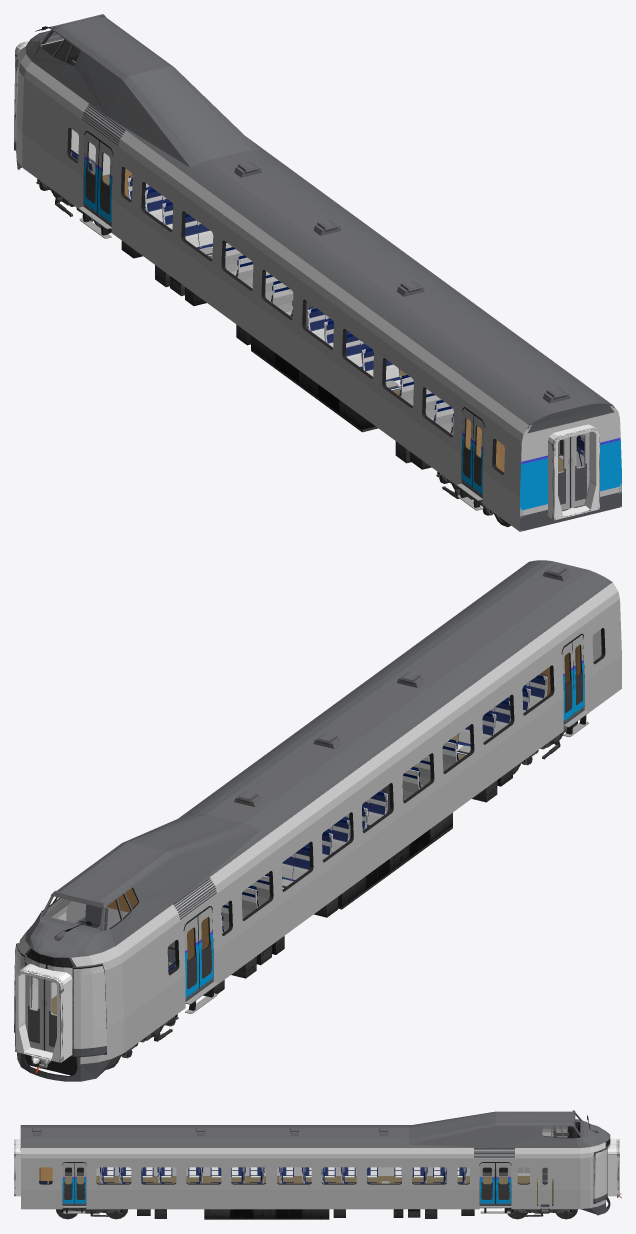
Rendered from nsicmfront_gangway_back.obj.
The picture shows the model from 3 angles, top to bottom: view 1: azimuth 30°, elevation 25°; view 2: azimuth 150°, elevation 25°; view 3: azimuth 270°, elevation 25°; orthographic projection. The views are drawn at different scales.
Parts seen in each view (by area): view 1: side, jibung, chair_second, backout, habu, mak, jibungparts, backdoor, door_RB, door_RF, sadari, DT71 (+1 smaller); view 2: side, jibung, chair_second, frontparts, habu, mak, side_front, jibungparts, backdoor, door_RF, door_RB, sadari (+4 smaller); view 3: side, jibung, chair_second, habu, badak, mak, DT71, frontparts, side_front, door_LB, door_LF, inside (+5 smaller).
Part boxes in pixels (<box>): side: <box>22,61,621,531</box>; jibung: <box>25,16,612,425</box>; chair_second: <box>127,175,453,434</box>; backout: <box>523,403,618,530</box>; habu: <box>111,228,431,469</box>; mak: <box>15,40,599,520</box>; jibungparts: <box>82,103,570,403</box>; backdoor: <box>558,432,589,509</box>; door_RB: <box>83,132,473,487</box>; door_RF: <box>97,141,483,494</box>; sadari: <box>79,131,577,510</box>; DT71: <box>36,179,510,527</box>; side: <box>47,582,621,1052</box>; jibung: <box>25,560,612,957</box>; chair_second: <box>221,673,547,933</box>; frontparts: <box>14,920,123,1081</box>; habu: <box>24,769,512,1075</box>; mak: <box>15,963,72,1062</box>; side_front: <box>19,927,124,1064</box>; jibungparts: <box>173,565,570,919</box>; backdoor: <box>25,974,56,1052</box>; door_RF: <box>198,636,584,987</box>; door_RB: <box>184,642,573,998</box>; sadari: <box>183,633,589,1013</box>; side: <box>21,1126,580,1209</box>; jibung: <box>20,1111,610,1147</box>; chair_second: <box>100,1167,466,1183</box>; habu: <box>137,1207,502,1219</box>; badak: <box>65,1176,529,1184</box>; mak: <box>14,1139,619,1196</box>; DT71: <box>56,1207,577,1219</box>; frontparts: <box>580,1115,621,1215</box>; side_front: <box>580,1142,605,1208</box>; door_LB: <box>74,1162,511,1203</box>; door_LF: <box>62,1162,495,1203</box>; inside: <box>96,1132,567,1175</box>.
Size of the model in its own units: 3.17 by 4.52 by 26.18.
